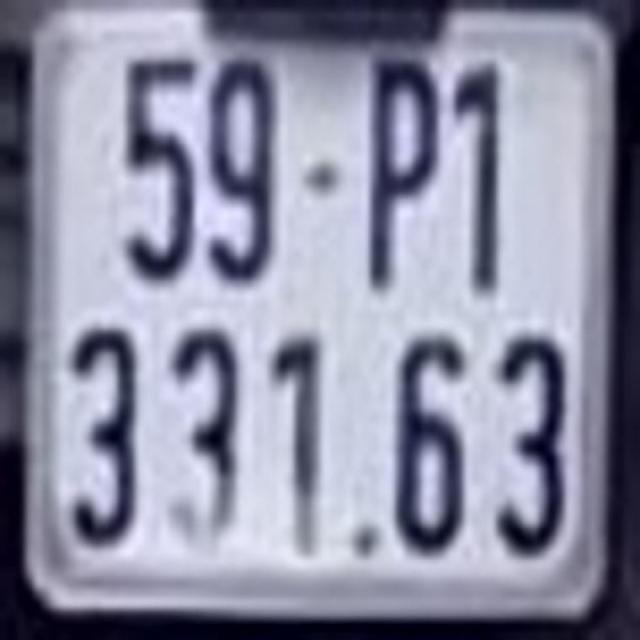1: (450, 59, 504, 288), (272, 336, 323, 556)
3: (168, 330, 242, 553), (498, 329, 568, 553), (69, 324, 139, 534)
5: (120, 52, 203, 288)
6: (394, 333, 466, 554)
9: (210, 59, 274, 279)
P: (369, 57, 443, 297)
